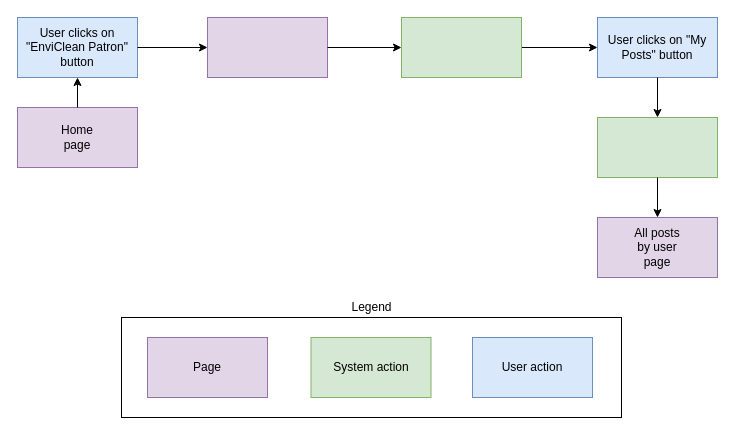
Some shapes in this 735 by 435 pixel diagram are drawn without their labels. Each missing label, with the centre of its shape:
Displays "My Posts" button: [461,47]
Displays all posts by user: [657,147]
EnviClean patron page with all posts: [267,47]
